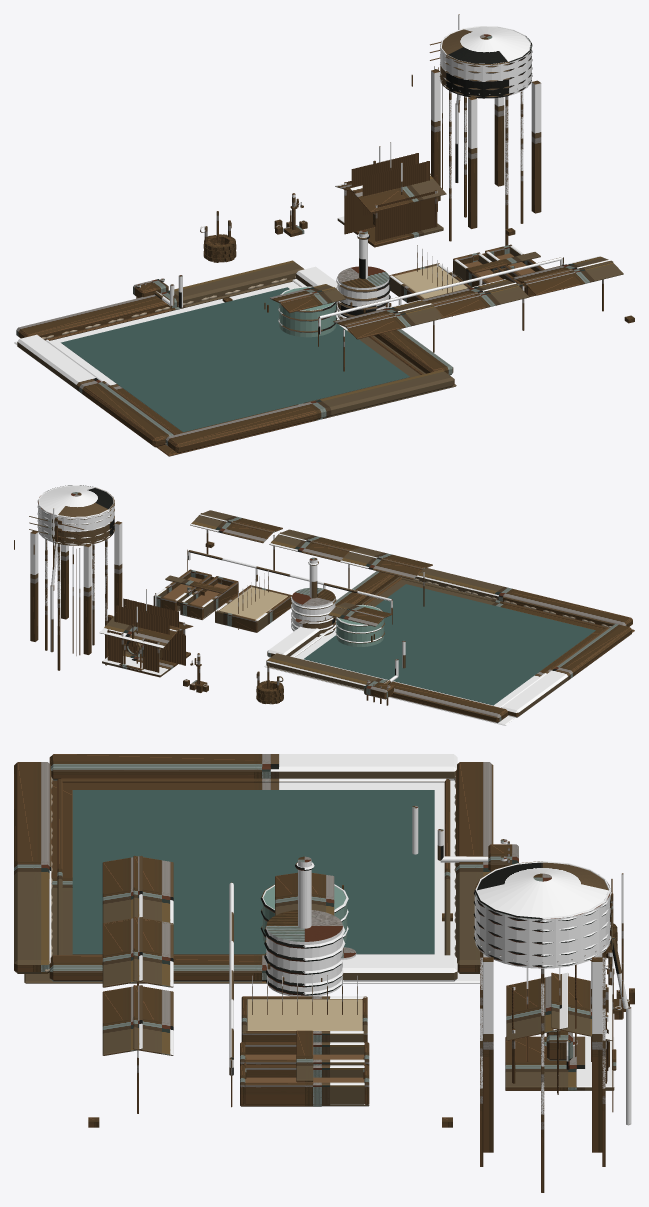
Rendered from water.glb.
3 views of the same model, one above another, from view 1: azimuth 30°, elevation 25°; view 2: azimuth 150°, elevation 25°; view 3: azimuth 270°, elevation 25° (orthographic). The views are drawn at different scales.
Visible parts, largest first — view 1: reservoir:water, reservoir:structure, water-tower:structure, pump-house:structure, treatment-plant:structure, treatment-plant:clean:geometry, treatment-plant:settle:geometry, treatment-plant:boil:geometry, treatment-plant:filter:geometry, hand-well:structure, standpipe:structure; view 2: reservoir:water, reservoir:structure, water-tower:structure, pump-house:structure, treatment-plant:structure, treatment-plant:settle:geometry, treatment-plant:clean:geometry, treatment-plant:filter:geometry, treatment-plant:boil:geometry, hand-well:structure, standpipe:structure; view 3: reservoir:water, reservoir:structure, water-tower:structure, treatment-plant:structure, pump-house:structure, treatment-plant:settle:geometry, treatment-plant:boil:geometry, treatment-plant:filter:geometry, treatment-plant:clean:geometry.
Boxes of the visible parts, x1,y1,x2,y2 form: reservoir:water: (61, 287, 409, 432); reservoir:structure: (14, 260, 456, 456); water-tower:structure: (411, 14, 541, 245); pump-house:structure: (335, 142, 446, 247); treatment-plant:structure: (318, 256, 623, 371); treatment-plant:clean:geometry: (264, 257, 562, 337); treatment-plant:settle:geometry: (222, 228, 634, 323); treatment-plant:boil:geometry: (336, 230, 391, 319); treatment-plant:filter:geometry: (389, 245, 471, 316); hand-well:structure: (200, 211, 236, 262); standpipe:structure: (274, 193, 307, 236); reservoir:water: (304, 584, 595, 705); reservoir:structure: (264, 568, 634, 725); water-tower:structure: (14, 485, 122, 670); pump-house:structure: (100, 589, 193, 677); treatment-plant:structure: (187, 510, 432, 624); treatment-plant:settle:geometry: (107, 541, 238, 620); treatment-plant:clean:geometry: (188, 550, 392, 646); treatment-plant:filter:geometry: (215, 570, 291, 632); treatment-plant:boil:geometry: (291, 557, 336, 636); hand-well:structure: (256, 663, 283, 704); standpipe:structure: (183, 653, 208, 692); reservoir:water: (72, 790, 434, 954); reservoir:structure: (14, 754, 518, 983); water-tower:structure: (473, 861, 631, 1192); treatment-plant:structure: (102, 855, 232, 1113); pump-house:structure: (505, 960, 616, 1094); treatment-plant:settle:geometry: (88, 913, 452, 1127); treatment-plant:boil:geometry: (264, 856, 356, 996); treatment-plant:filter:geometry: (241, 975, 367, 1042); treatment-plant:clean:geometry: (229, 872, 348, 1075).
Bounding box in the file's own units: 54.84 × 19 × 36.53.
Materials: 15 (10 with a texture image).
